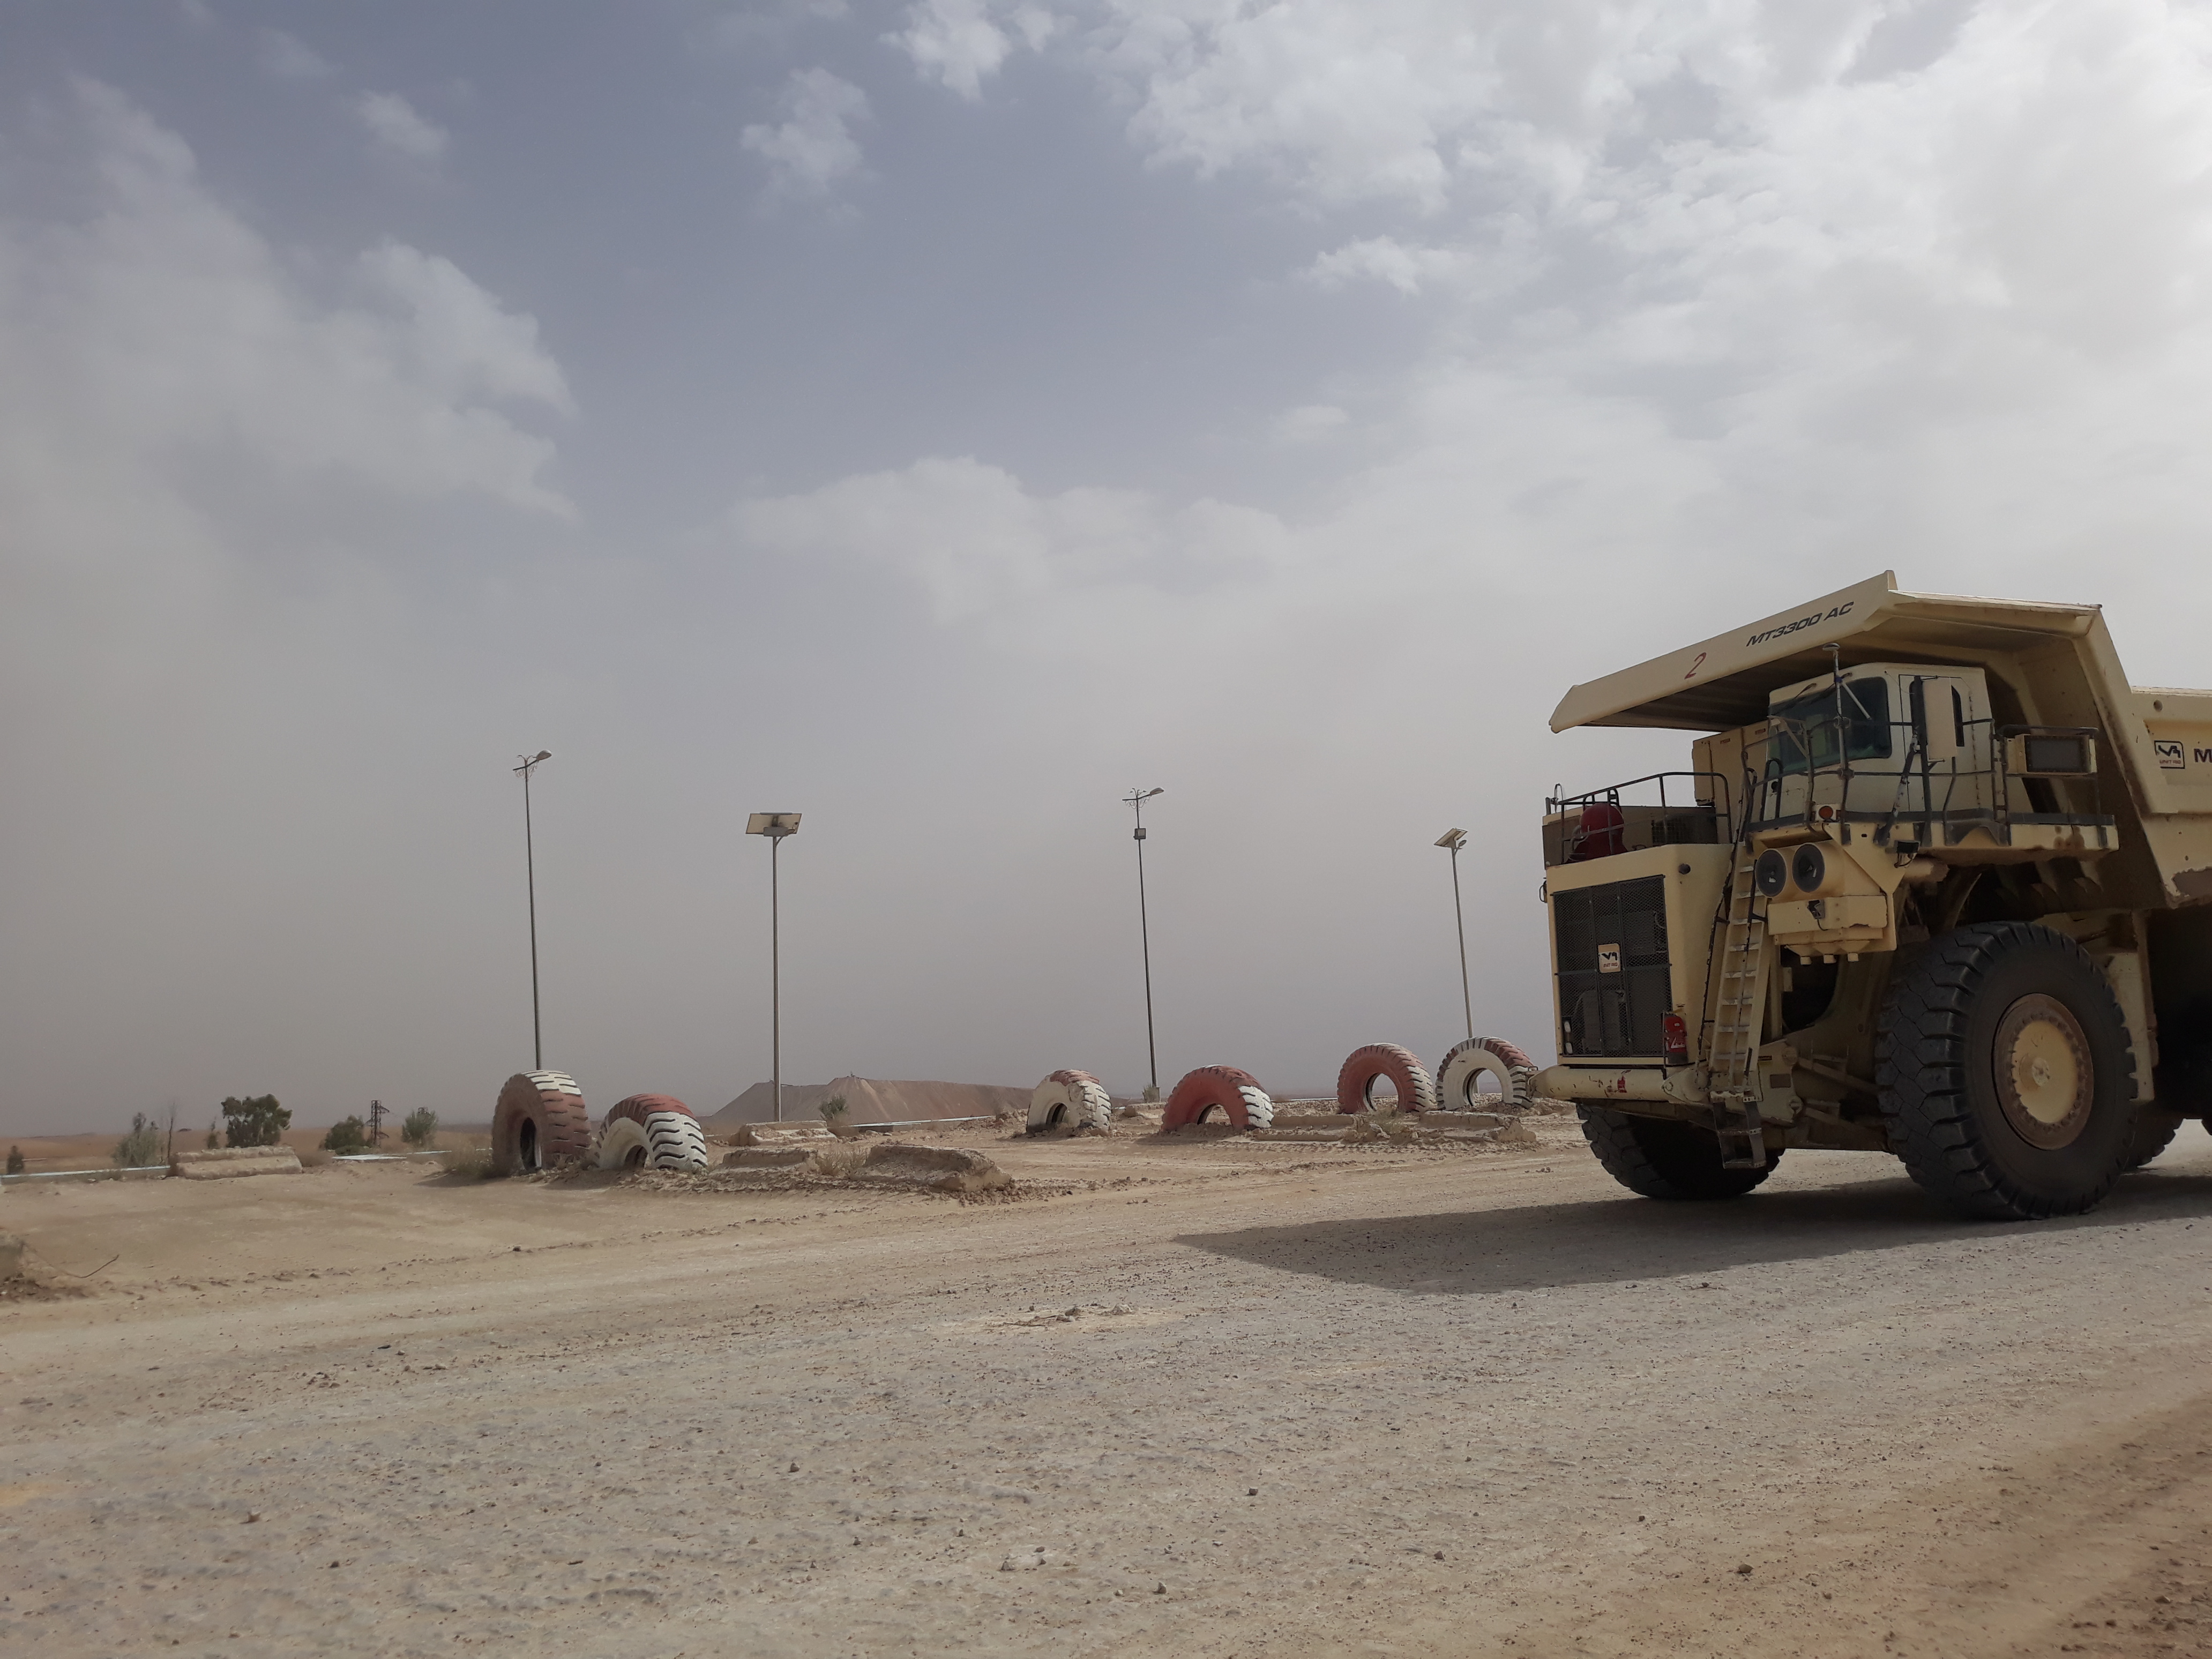camion: (1489, 545, 2212, 1239)
